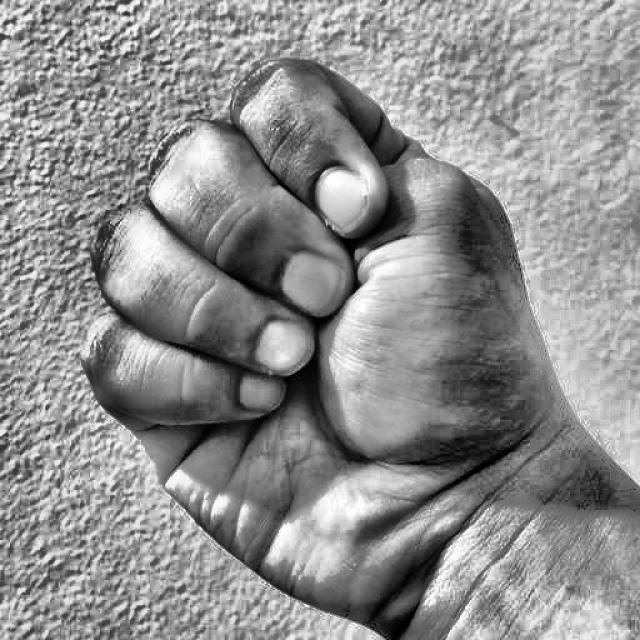To: (69, 40, 588, 640)
